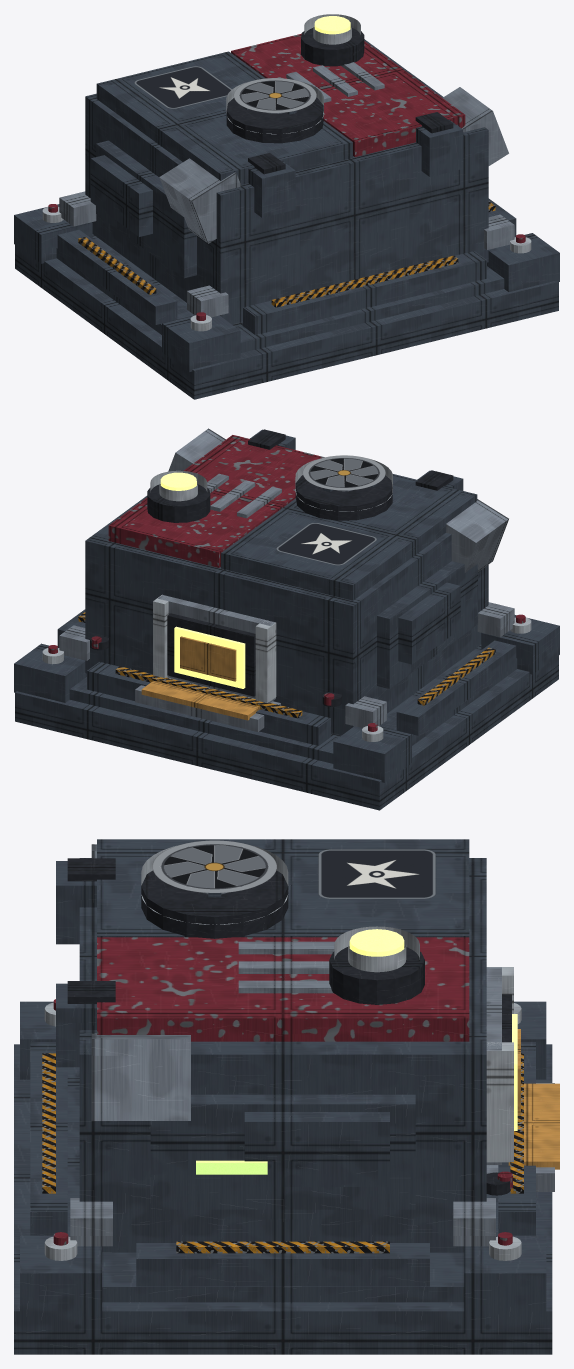
Rendered from supply_depot_normal.glb.
3 views of the same model, one above another, from view 1: azimuth 30°, elevation 25°; view 2: azimuth 150°, elevation 25°; view 3: azimuth 270°, elevation 25° (orthographic). The views are drawn at different scales.
Visible parts, largest first — view 1: Raising_Armored_Structure, Lowered_Hatch_and_Base; view 2: Raising_Armored_Structure, Lowered_Hatch_and_Base; view 3: Raising_Armored_Structure, Lowered_Hatch_and_Base.
Boxes of the visible parts, x1,y1,x2,y2 form: Raising_Armored_Structure: [85, 14, 508, 324]; Lowered_Hatch_and_Base: [14, 191, 559, 399]; Raising_Armored_Structure: [85, 428, 508, 735]; Lowered_Hatch_and_Base: [14, 602, 559, 810]; Raising_Armored_Structure: [56, 839, 559, 1252]; Lowered_Hatch_and_Base: [14, 999, 552, 1354].
Bounding box in the file's own units: 3.76 × 2.54 × 3.2.
Materials: 12 (12 with a texture image).
